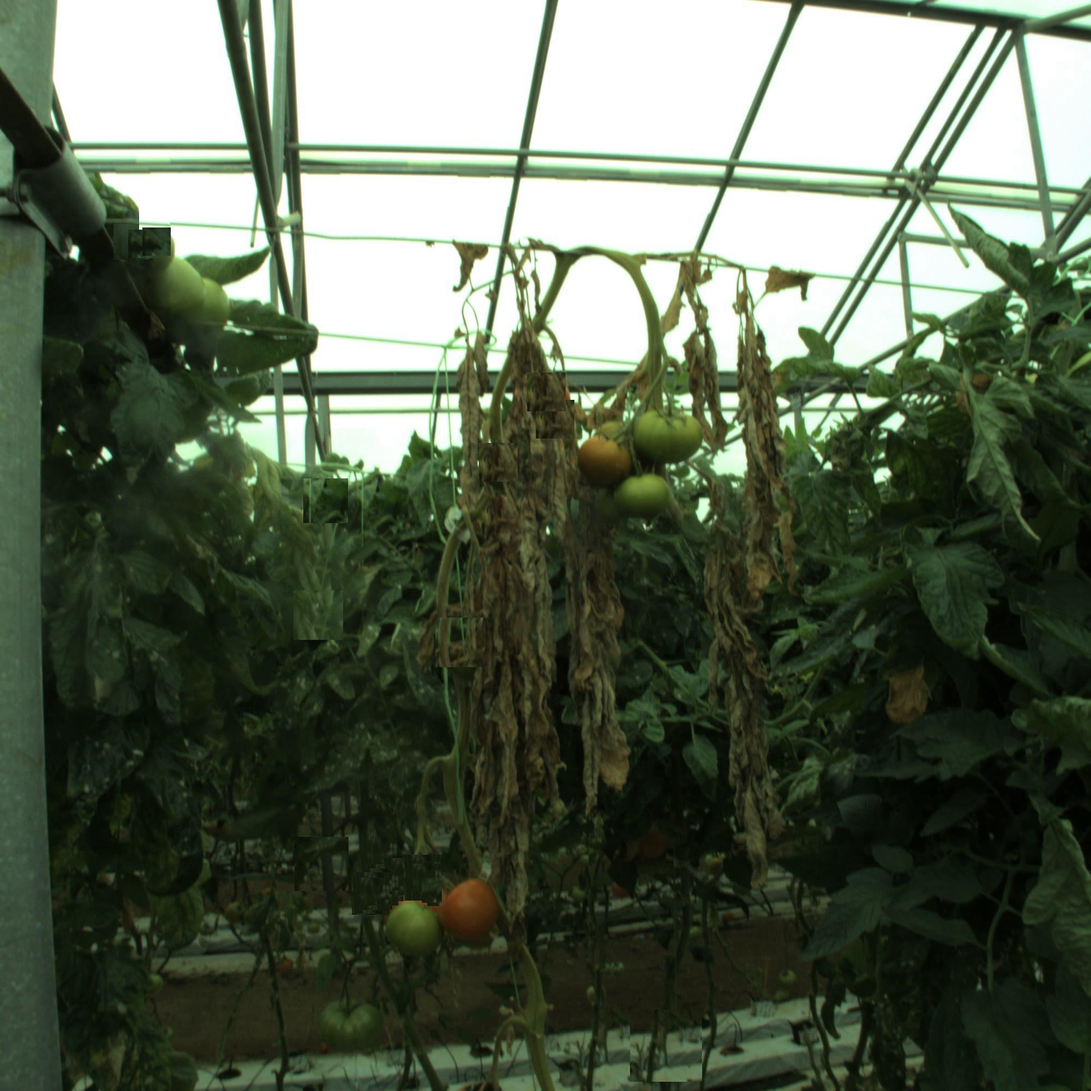fully-ripe: (442, 881, 496, 936), (580, 438, 628, 486)
unripe: (632, 399, 701, 467), (164, 275, 232, 343), (144, 260, 205, 321), (387, 904, 442, 958), (320, 991, 374, 1045), (620, 471, 664, 516)
